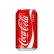paper: (15, 8, 38, 52)
